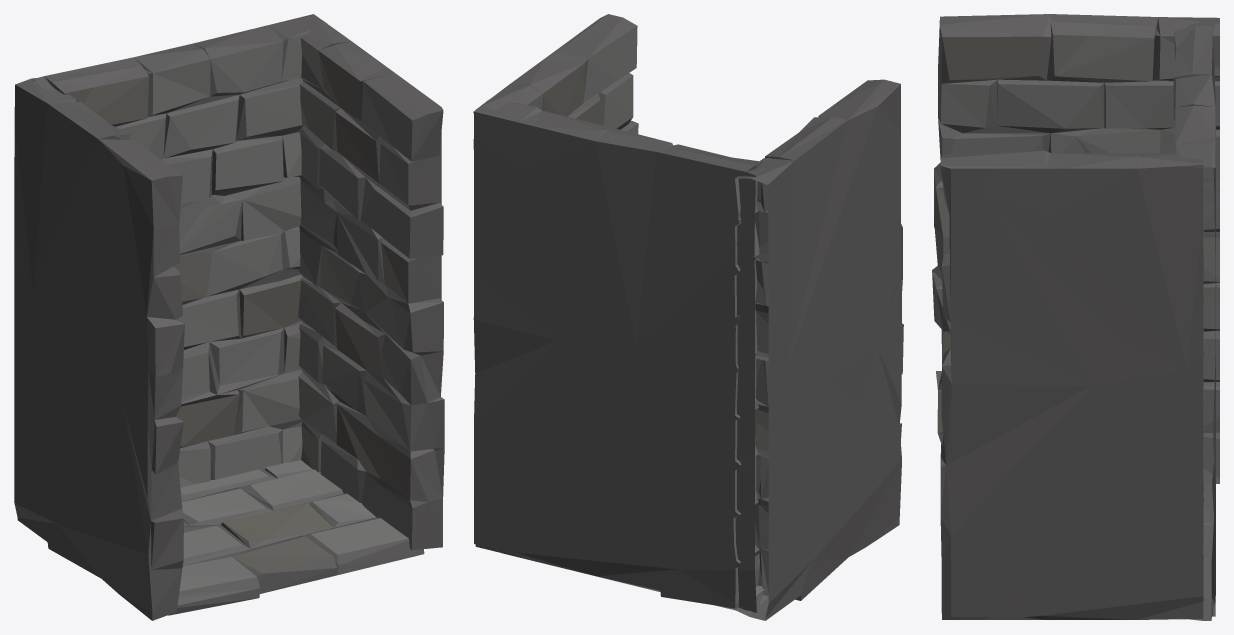
Rendered from SM_Env_Wall_Alcove_01.FBX.
3 views of the same model, side by side, from view 1: azimuth 30°, elevation 25°; view 2: azimuth 150°, elevation 25°; view 3: azimuth 270°, elevation 25° (orthographic). The views are drawn at different scales.
Parts seen in each view (by area): view 1: SM_Env_Wall_Alcove_01; view 2: SM_Env_Wall_Alcove_01; view 3: SM_Env_Wall_Alcove_01.
Boxes of the visible parts, left/top/right/bottom form: SM_Env_Wall_Alcove_01: left=14, top=14, right=444, bottom=620; SM_Env_Wall_Alcove_01: left=473, top=14, right=903, bottom=620; SM_Env_Wall_Alcove_01: left=932, top=14, right=1219, bottom=620.
Size of what is drawn, in the model's own units: 249 by 200 by 356.
